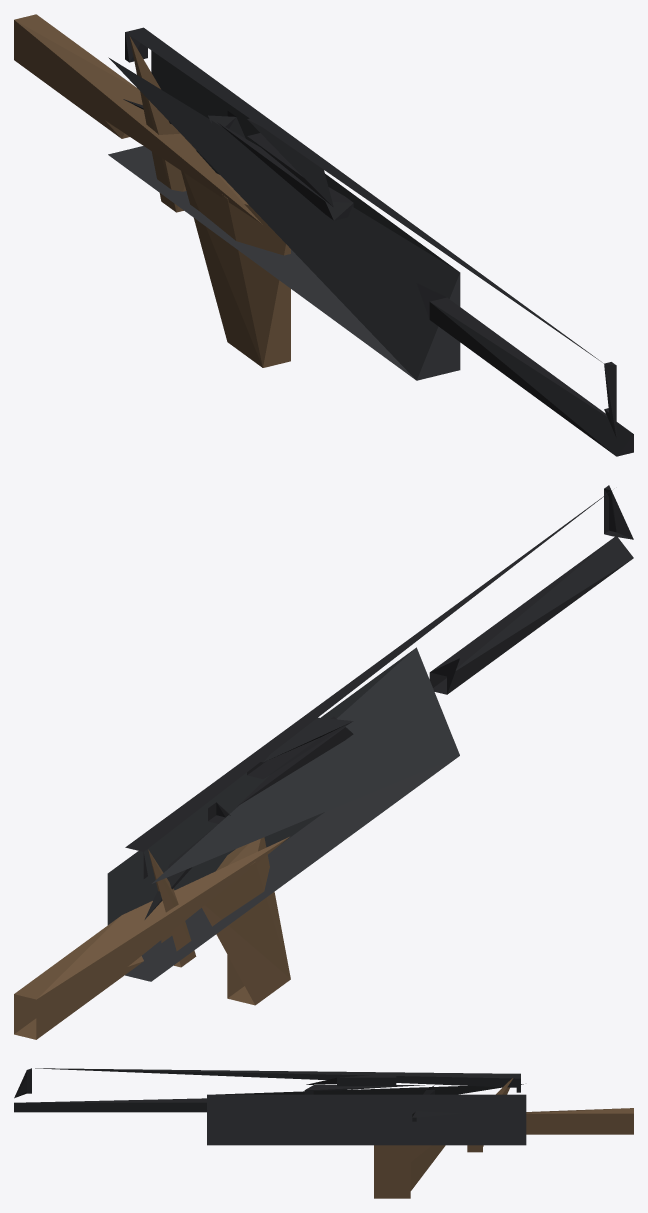
3 renders of one model, top to bottom at view 1: azimuth 30°, elevation 25°; view 2: azimuth 150°, elevation 25°; view 3: azimuth 270°, elevation 25°, orthographic. The views are drawn at different scales.
Bounding box in the file's own units: 0.11 × 0.375 × 1.67.
